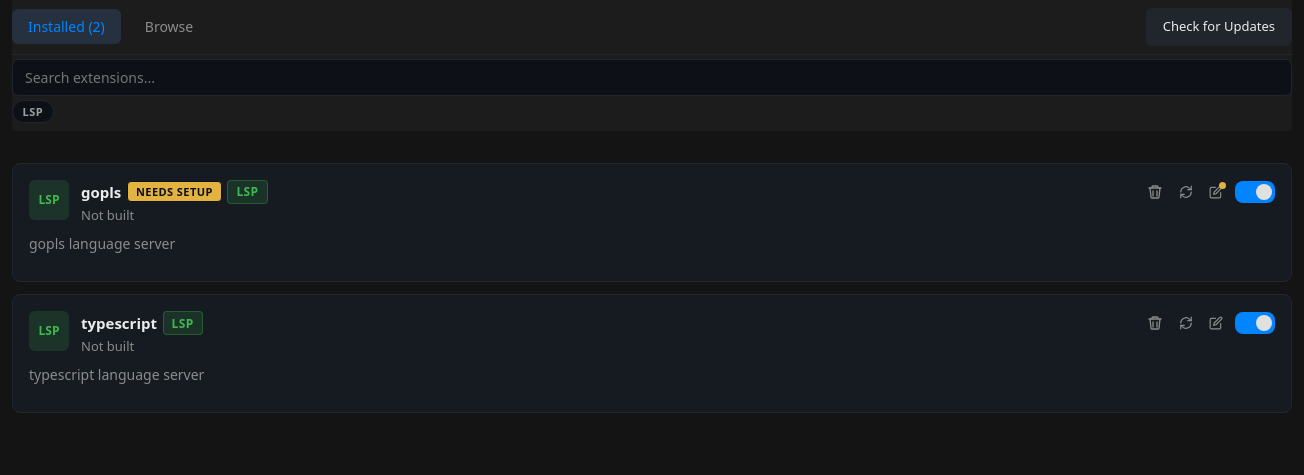
Test: Settings → Extensions: saying what an install will need afterwards › badges a registry entry that declares a dependency directory, and says what for
The image size is (1304, 475).
Expected: the text "gopls" is shown, [81, 180, 121, 203]
Step 1. Click the button "Browse" → (169, 27), box [129, 9, 209, 44]
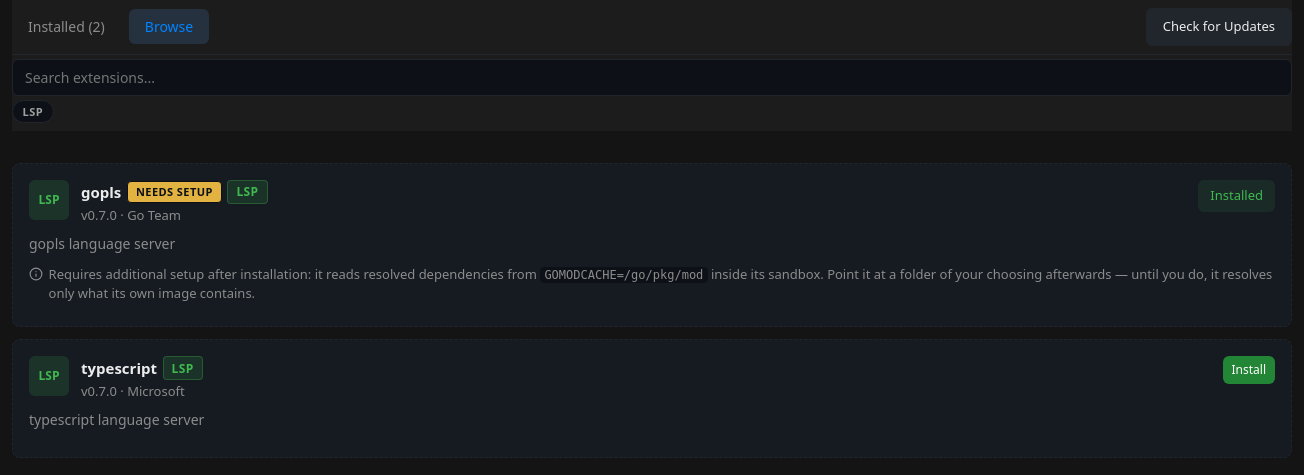
Expected: the 1st element with class "registry-card" is shown, [12, 163, 1292, 327]
Expected: the element with class "ext-needs-setup-note" shows "Requires additional setup after installation", [49, 265, 540, 283]
Expected: the element with class "ext-needs-setup-note" shows "GOMODCACHE=/go/pkg/mod", [544, 268, 703, 282]
